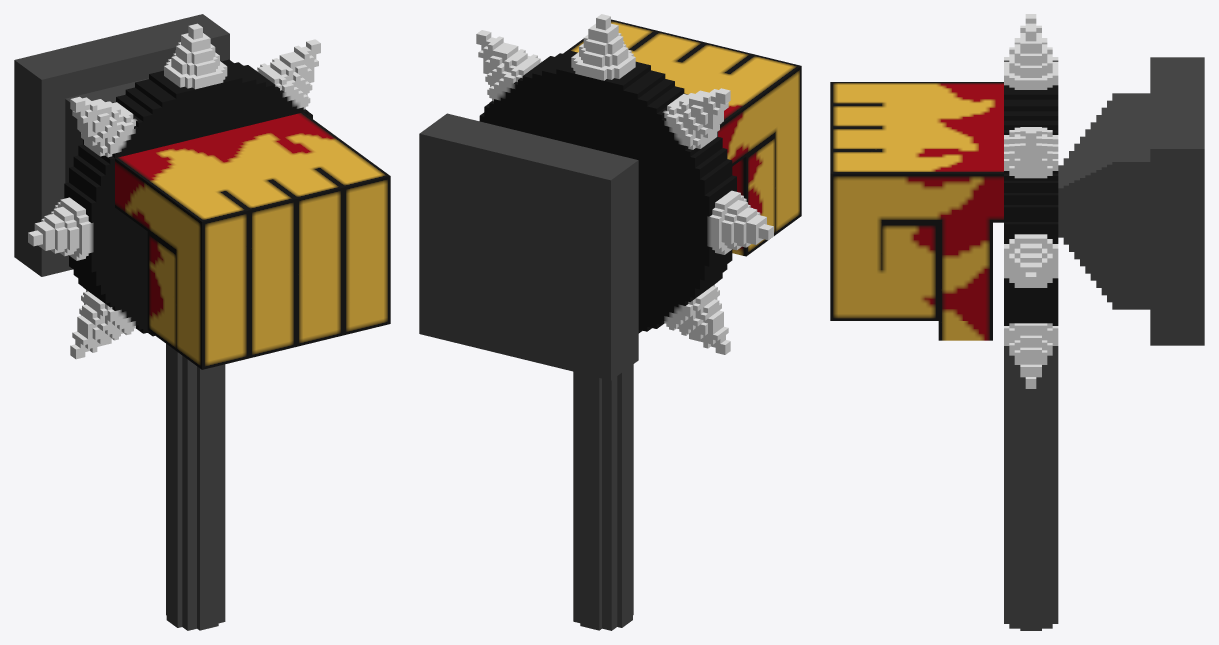
File: Hammer_Fire.fbx
3 renders of one model, left to right at view 1: azimuth 30°, elevation 25°; view 2: azimuth 150°, elevation 25°; view 3: azimuth 270°, elevation 25°, orthographic.
Parts seen in each view (by area): view 1: Hammer_Fire; view 2: Hammer_Fire; view 3: Hammer_Fire.
Part boxes in pixels (x1=…): Hammer_Fire: x1=14, y1=14, x2=390, y2=630; Hammer_Fire: x1=419, y1=14, x2=801, y2=630; Hammer_Fire: x1=830, y1=14, x2=1204, y2=630.
Size of the model in its own units: 70 by 120 by 69.
Materials: 1 (1 with a texture image).
